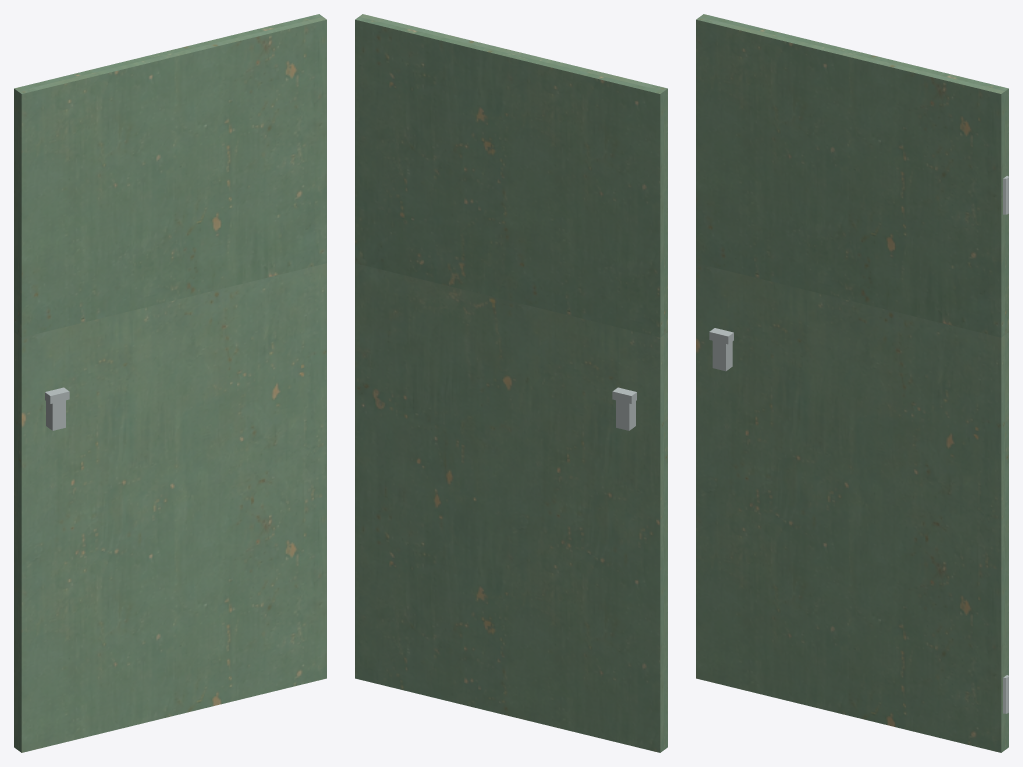
Rendered from bath-stall-door-right.gltf.
3 renders of one model, left to right at view 1: azimuth 30°, elevation 25°; view 2: azimuth 150°, elevation 25°; view 3: azimuth 330°, elevation 25°, orthographic.
Visible parts, largest first — view 1: door-paint, door-metal; view 2: door-paint, door-metal; view 3: door-paint, door-metal.
Part boxes in pixels (box(x1,y1,x2,y2)): door-paint: box(14, 14, 326, 752); door-metal: box(45, 387, 69, 430); door-paint: box(355, 14, 667, 752); door-metal: box(612, 387, 636, 430); door-paint: box(696, 14, 1008, 752); door-metal: box(709, 176, 1008, 713).
Size of the model in its own units: 0.809 by 1.65 by 0.105.
Materials: 2 (1 with a texture image).
